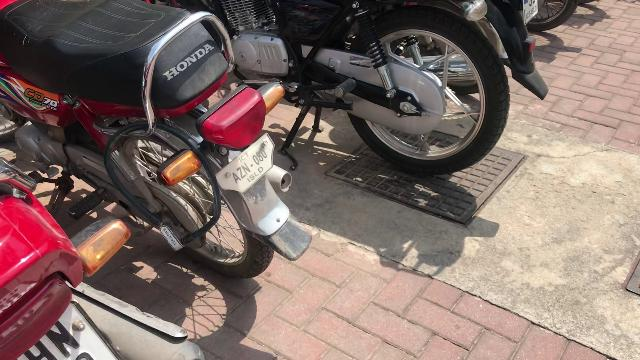plate: (218, 134, 275, 194)
